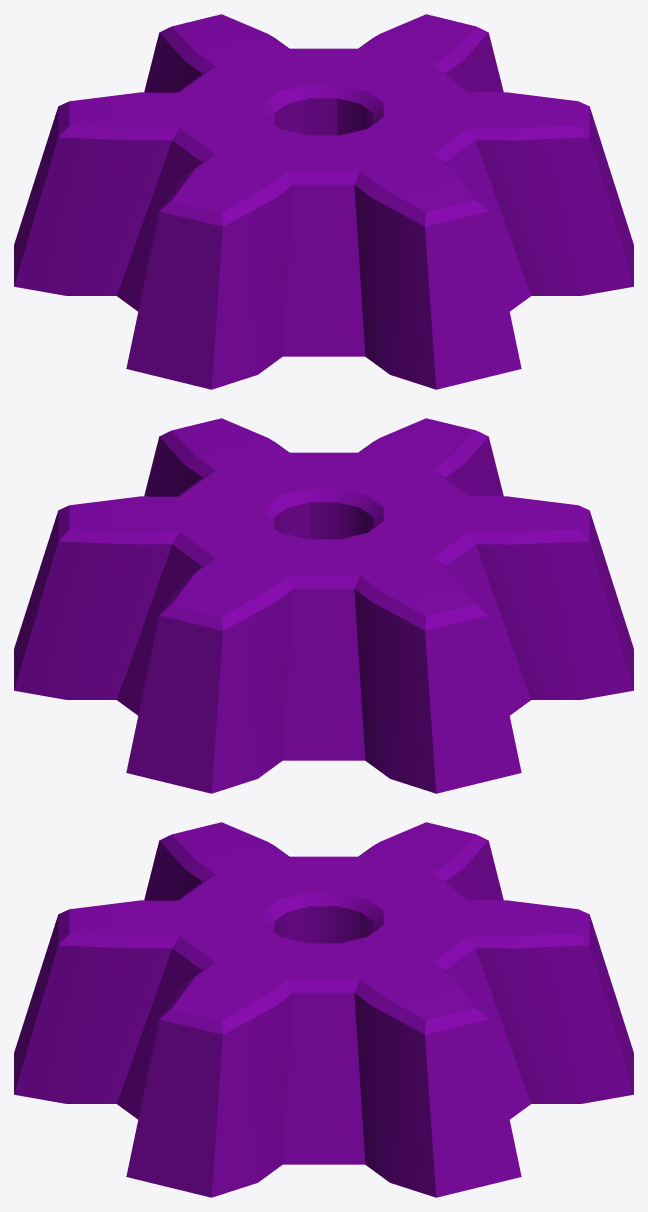
The model's file is geo_gear_taper.fbx.
3 views of the same model, one above another, from view 1: azimuth 30°, elevation 25°; view 2: azimuth 150°, elevation 25°; view 3: azimuth 270°, elevation 25° (orthographic).
Parts seen in each view (by area): view 1: geo_gear_taper; view 2: geo_gear_taper; view 3: geo_gear_taper.
Part boxes in pixels (x1,y1,x2,y2): geo_gear_taper: (14,14,633,389); geo_gear_taper: (14,418,633,793); geo_gear_taper: (14,822,633,1197).
Size of the model in its own units: 2.1 by 0.617 by 2.23.
